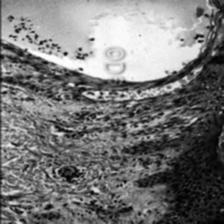Non-Cancerous Skin Condition: (123, 9, 224, 223), (0, 0, 72, 224)
